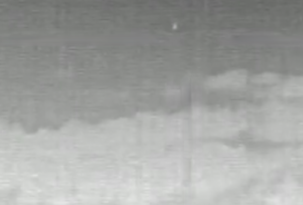Target: (173, 25, 176, 29)
